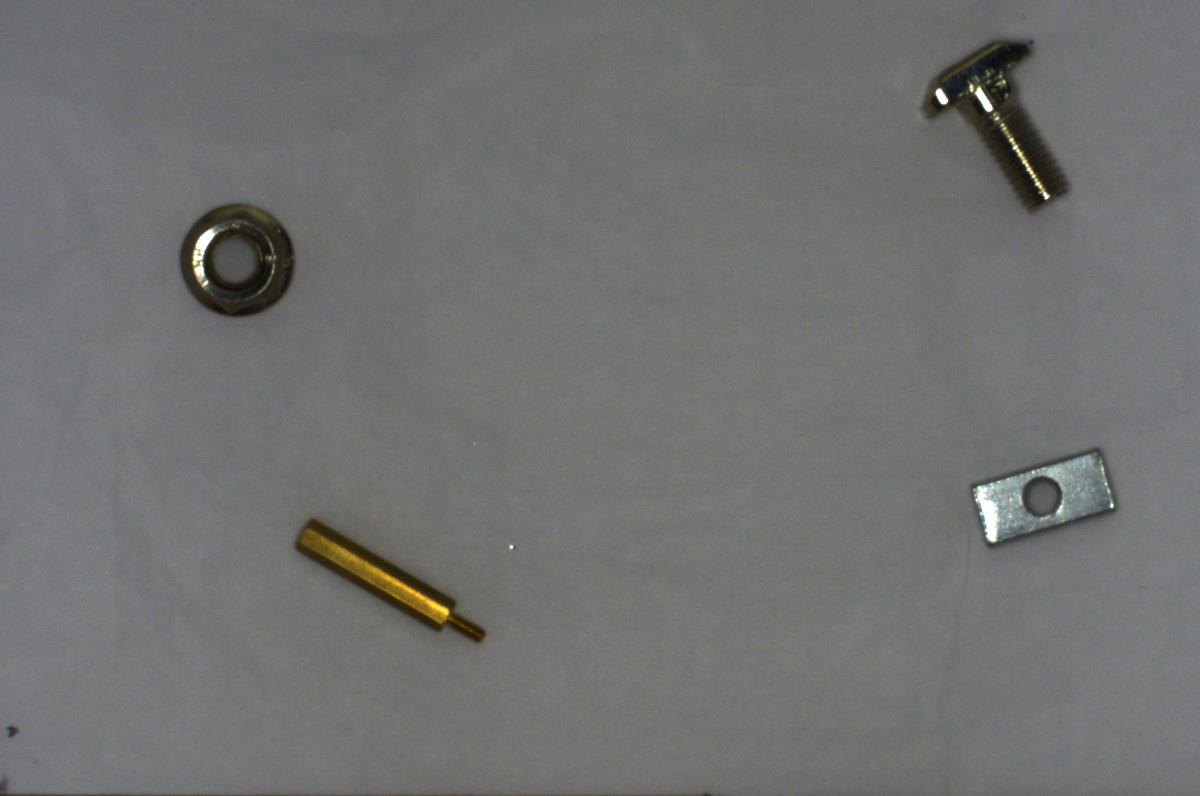Flange nut: (173, 196, 297, 321)
Hexagon pillar: (290, 515, 487, 640)
Rectangular nut: (965, 434, 1130, 561)
T-shaped screw: (906, 28, 1082, 219)
